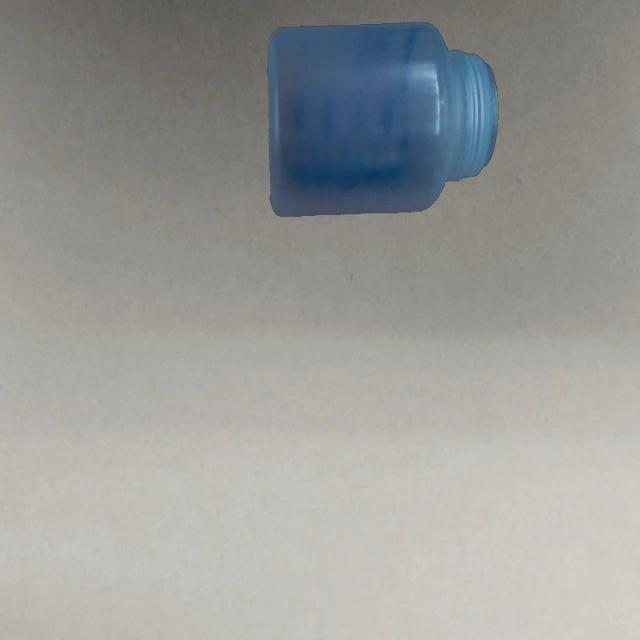bottle: (268, 22, 498, 222)
